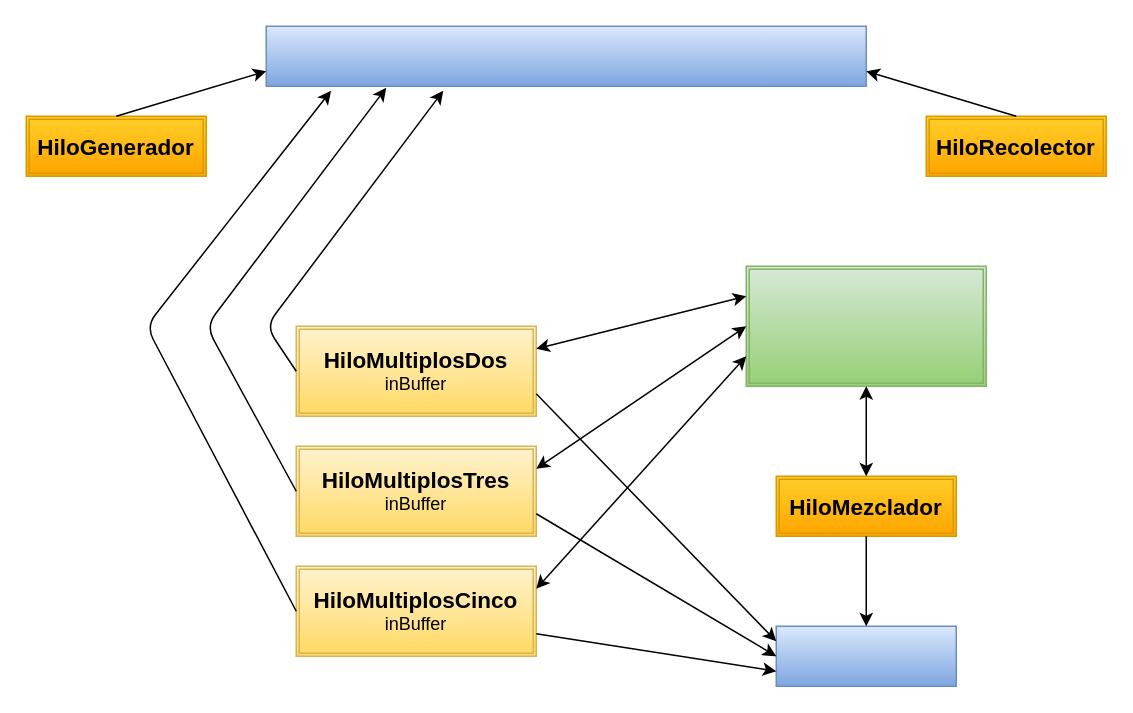
Image size: 1133x713. Some labels were removed from this diagram. Each missing label, with the box of its shape:
mixedBuffer: (775, 625, 956, 686)
MonitorSincronizador: (745, 265, 986, 386)
sharedBuffer: (265, 25, 866, 86)
